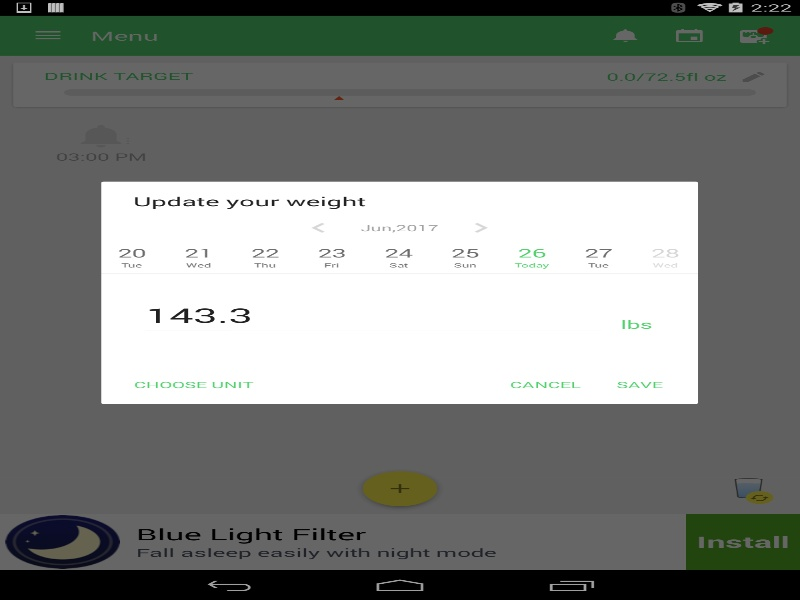Button: (117, 367, 269, 401), (494, 367, 596, 401), (596, 367, 682, 401)
Input: (140, 295, 607, 335)
